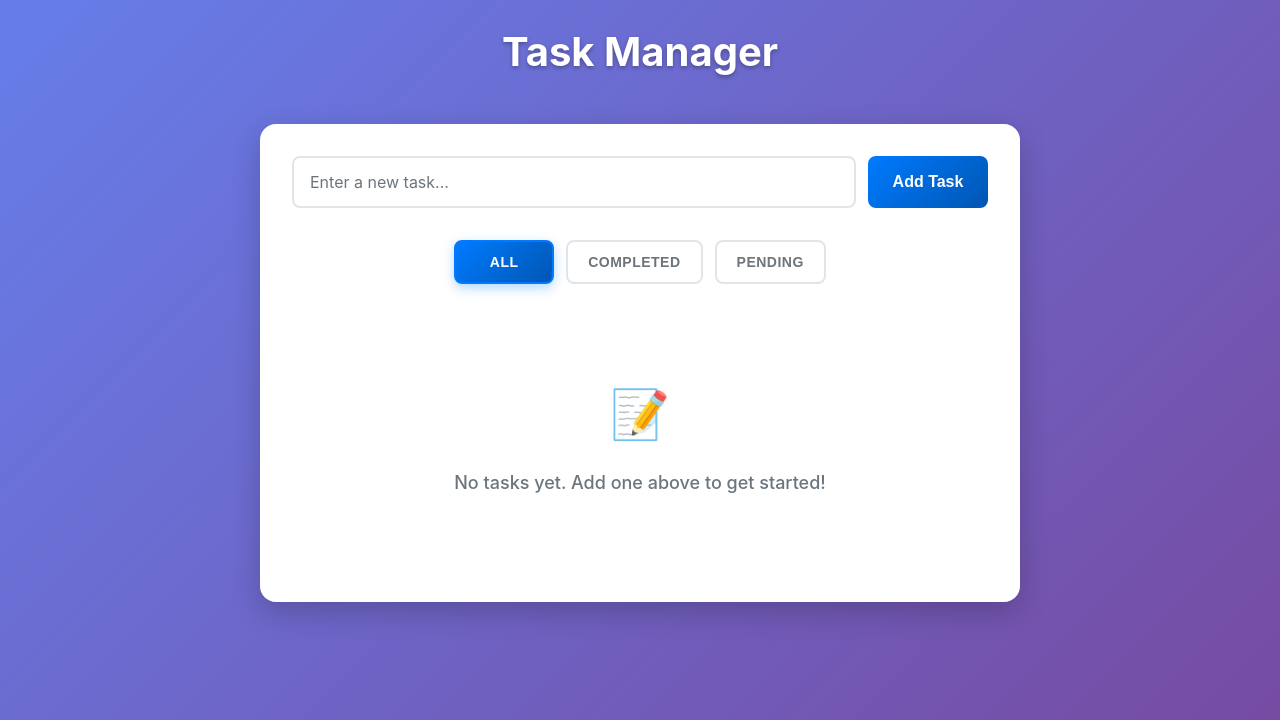
Test case: Final Integration Tests › Form Validation › prevents empty task submission
Try to submit empty form
Click the button "Add Task" at (928, 182), box [868,156,988,208]
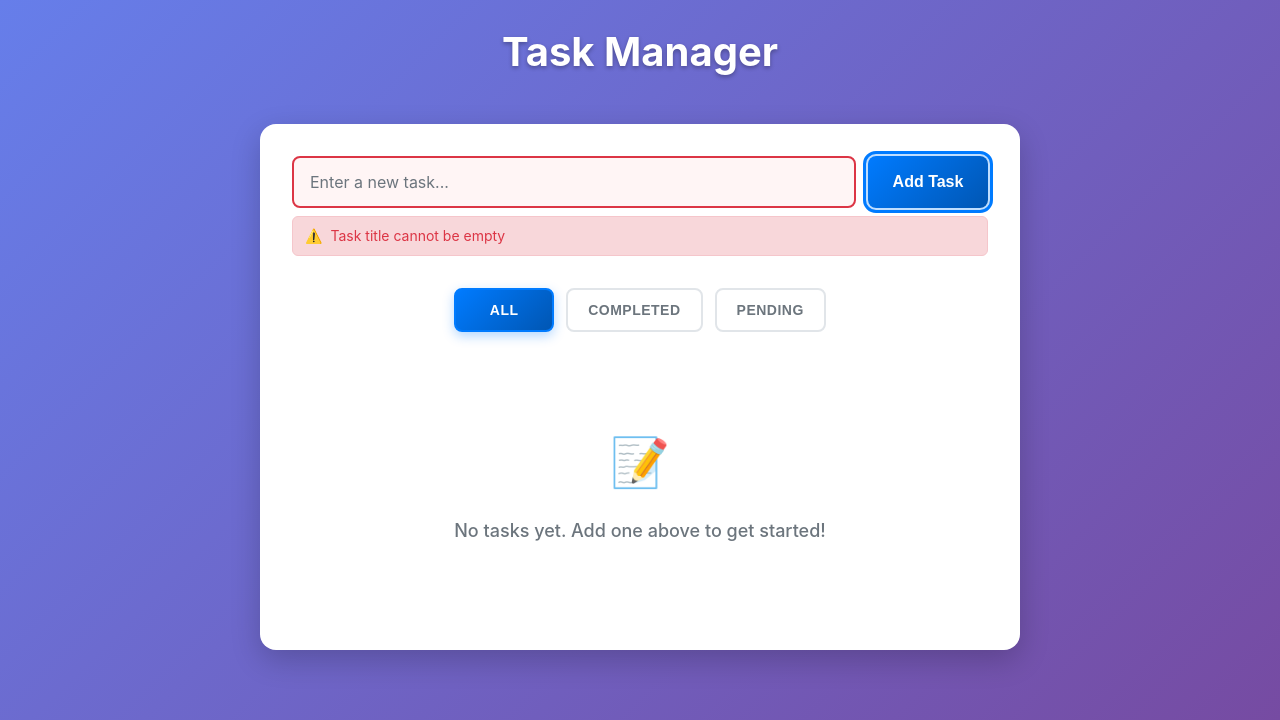
Expected: the text "No tasks yet. Add one above to get started!" is shown, [454,520,826,541]
Expected: the text "Task title cannot be empty" is shown, [292,216,988,256]
